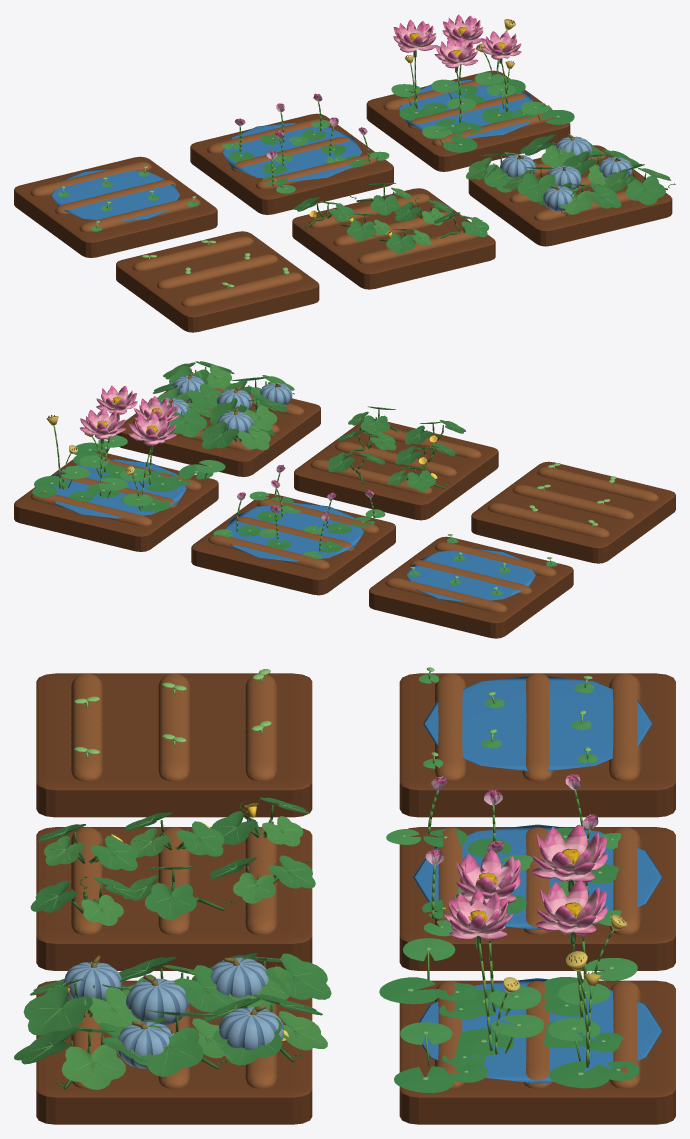
The model's file is cultures6.glb.
The picture shows the model from 3 angles, top to bottom: view 1: azimuth 30°, elevation 25°; view 2: azimuth 150°, elevation 25°; view 3: azimuth 270°, elevation 25°; orthographic projection. The views are drawn at different scales.
Parts seen in each view (by area): view 1: terre.003, terre.004, terre, terre.001, terre.005, terre.002, feuille.002, eau, eau.001, feuille, feuille.003, eau.002 (+25 smaller); view 2: terre.003, terre.004, terre, terre.001, terre.002, terre.005, eau, feuille.002, eau.001, feuille, feuille.003, eau.002 (+25 smaller); view 3: terre.003, terre.004, terre, terre.005, terre.002, terre.001, feuille.002, eau, feuille, feuille.003, eau.002, feuille.001 (+48 smaller).
Part boxes in pixels (box(x1,y1,x2,y2)): terre.003: box(116, 231, 319, 332); terre.004: box(292, 188, 495, 289); terre: box(14, 156, 217, 257); terre.001: box(190, 113, 393, 214); terre.005: box(468, 145, 672, 246); terre.002: box(366, 70, 570, 171); feuille.002: box(480, 134, 665, 208); eau: box(51, 168, 179, 222); eau.001: box(222, 122, 361, 181); feuille: box(294, 183, 489, 254); feuille.003: box(466, 143, 671, 214); eau.002: box(398, 79, 533, 138); terre.003: box(471, 461, 675, 563); terre.004: box(294, 419, 498, 520); terre: box(369, 536, 573, 638); terre.001: box(191, 493, 395, 595); terre.002: box(14, 451, 218, 551); terre.005: box(116, 383, 320, 476); eau: box(406, 548, 535, 602); feuille.002: box(152, 361, 287, 449); eau.001: box(225, 502, 363, 561); feuille: box(327, 406, 465, 491); feuille.003: box(157, 362, 294, 450); eau.002: box(50, 459, 186, 518); terre.003: box(36, 673, 312, 817); terre.004: box(36, 827, 312, 970); terre: box(399, 673, 675, 817); terre.005: box(36, 980, 312, 1124); terre.002: box(399, 980, 675, 1124); terre.001: box(399, 827, 675, 970); feuille.002: box(14, 953, 331, 1076); eau: box(423, 676, 652, 771); feuille: box(30, 797, 315, 919); feuille.003: box(30, 956, 327, 1089); eau.002: box(418, 978, 662, 1083); feuille.001: box(44, 816, 303, 925).
Size of the model in its own units: 7.03 by 1.45 by 4.55.
